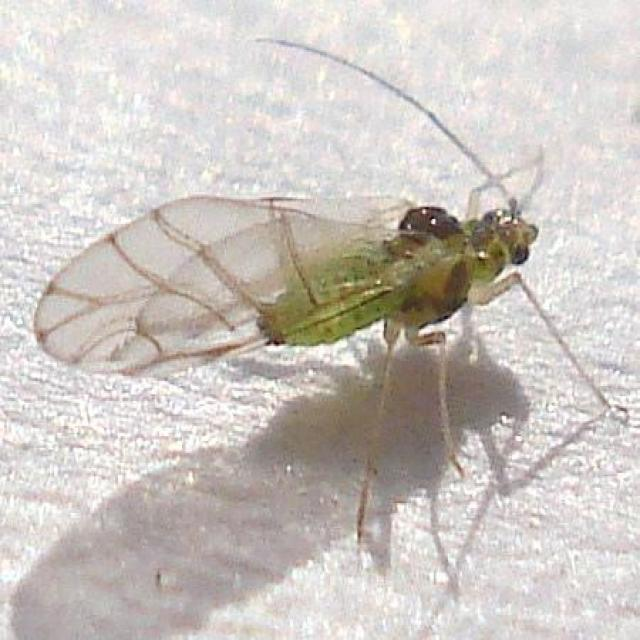Aphids: (46, 66, 634, 608)
